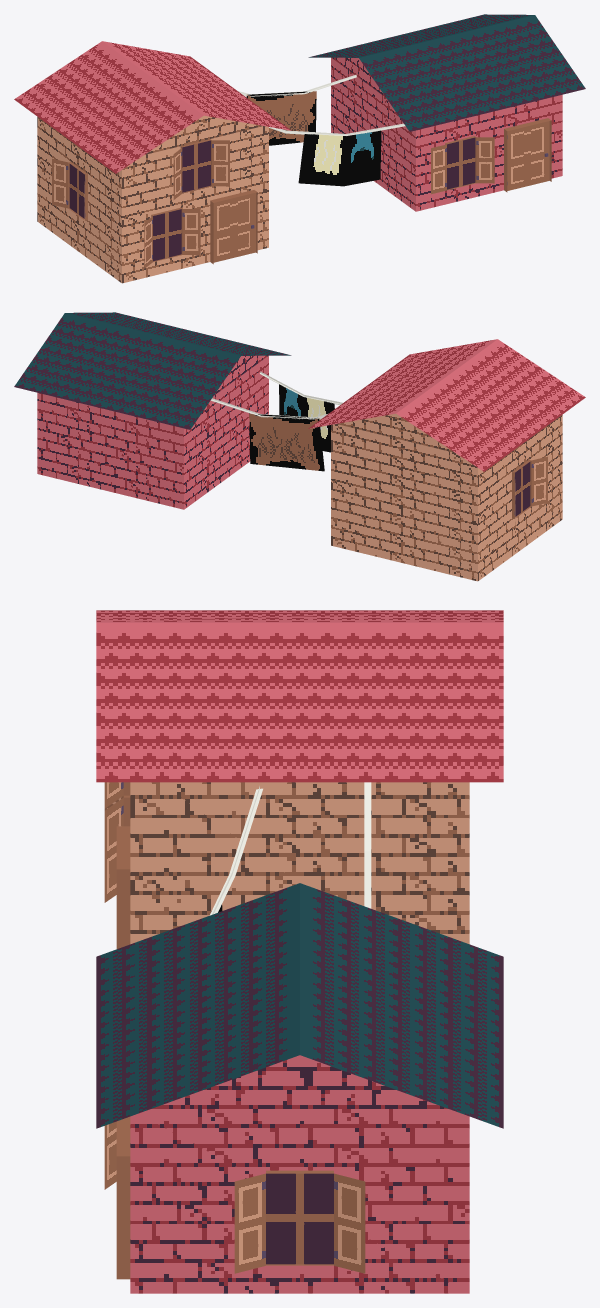
File: cloth_works.glb
The picture shows the model from 3 angles, top to bottom: view 1: azimuth 30°, elevation 25°; view 2: azimuth 150°, elevation 25°; view 3: azimuth 270°, elevation 25°; orthographic projection. The views are drawn at different scales.
Visible parts, largest first — view 1: cloth_works; view 2: cloth_works; view 3: cloth_works.
Part boxes in pixels (x1=…): cloth_works: x1=14, y1=14, x2=585, y2=283; cloth_works: x1=14, y1=312, x2=585, y2=581; cloth_works: x1=96, y1=610, x2=503, y2=1293.
Size of the model in its own units: 16 by 5.08 by 6.
Materials: 1 (1 with a texture image).
